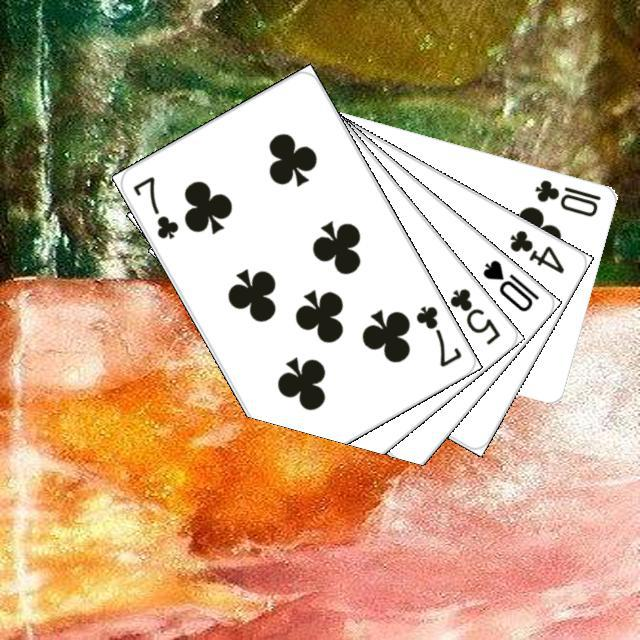10c: (530, 174, 603, 219)
10s: (477, 254, 541, 314)
4c: (504, 225, 566, 276)
5c: (444, 283, 502, 347)
7c: (127, 171, 181, 241), (410, 300, 464, 369)
